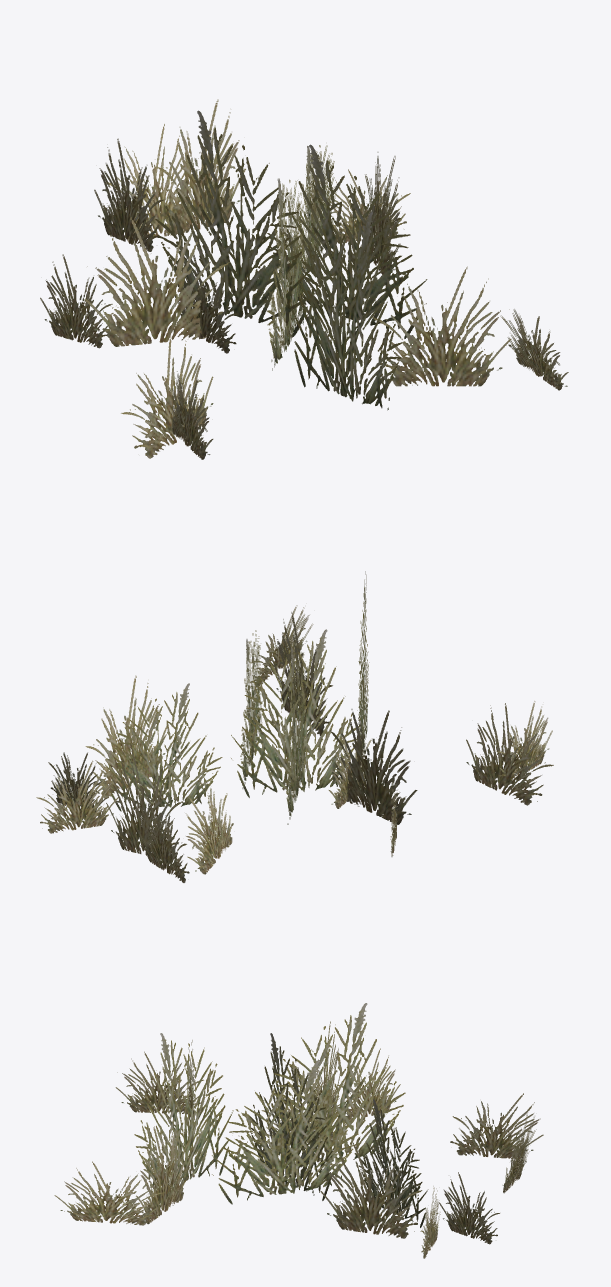
File: DN_grass05a.FBX
3 views of the same model, one above another, from view 1: azimuth 30°, elevation 25°; view 2: azimuth 150°, elevation 25°; view 3: azimuth 270°, elevation 25° (orthographic). The views are drawn at different scales.
Visible parts, largest first — view 1: DN_grass05a; view 2: DN_grass05a; view 3: DN_grass05a.
Boxes of the visible parts, x1,y1,x2,y2 form: DN_grass05a: (40,99,568,459); DN_grass05a: (36,571,553,882); DN_grass05a: (54,1003,543,1258).
Bounding box in the file's own units: 125 × 57.43 × 158.
